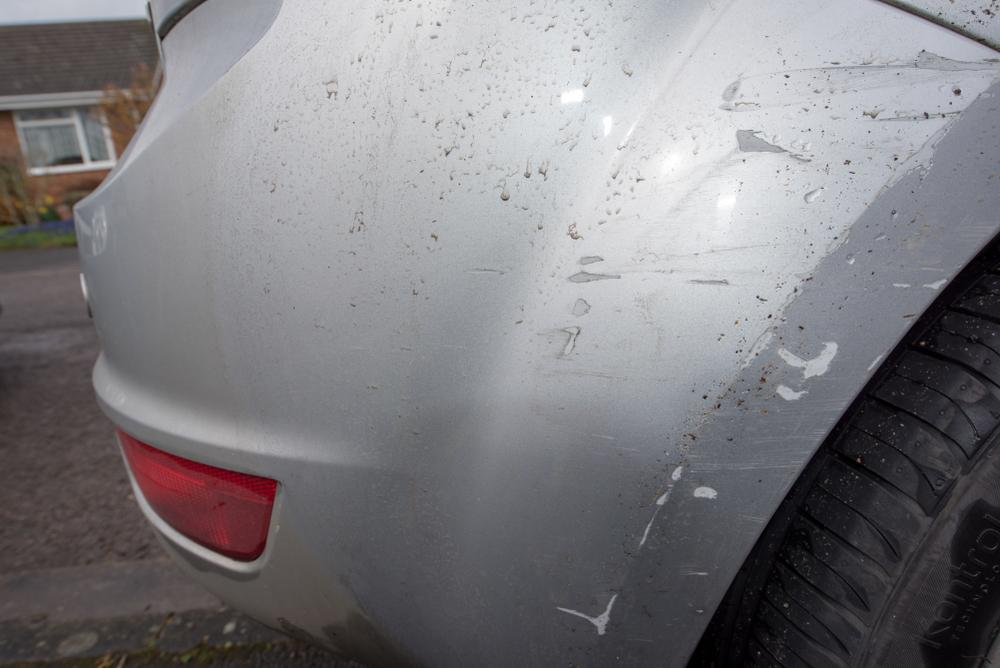scratch: (540, 49, 1000, 655)
